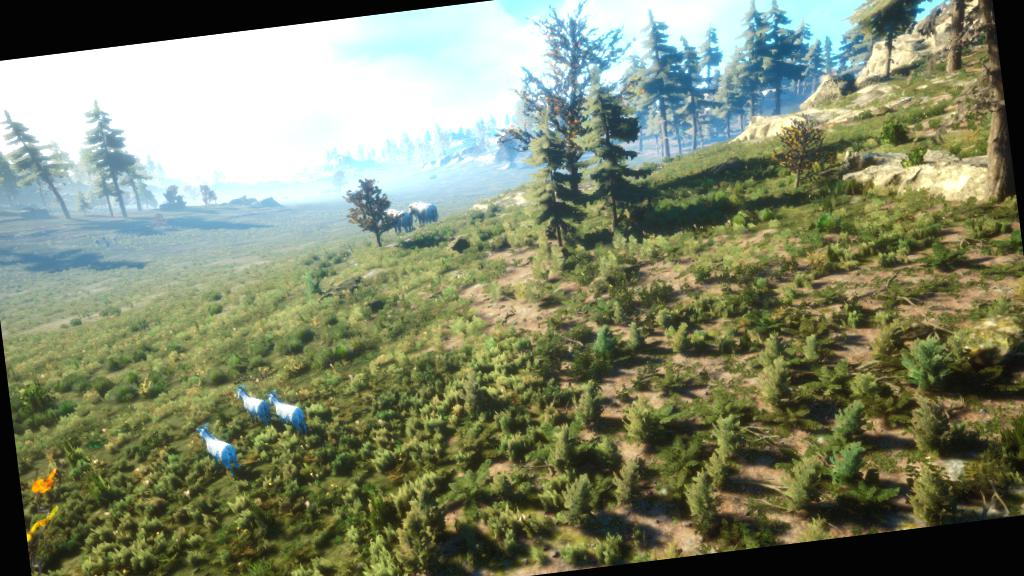elephant: (404, 187, 458, 234)
zebra: (186, 416, 246, 486), (264, 382, 326, 442), (224, 380, 272, 428)
